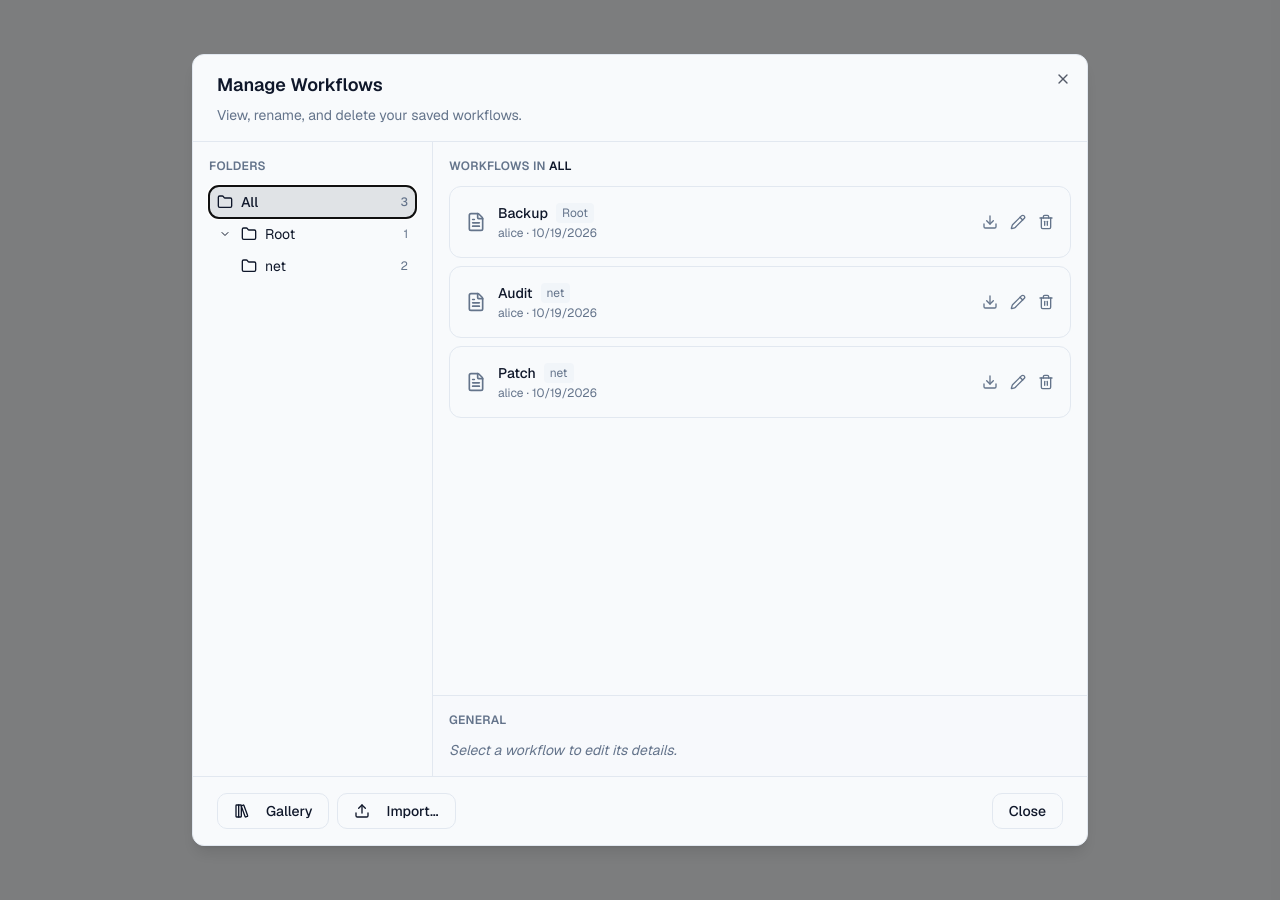
Test: WorkflowManageDialog edit › drops a pending delete confirmation when another workflow is edited
The width and height of the screenshot is (1280, 900).
What coordinates should you click on to do the following:
click the button named "Delete workflow" in the row of "Audit"
I would click on:
 (1046, 302)
Its box is [1038,294,1054,310].
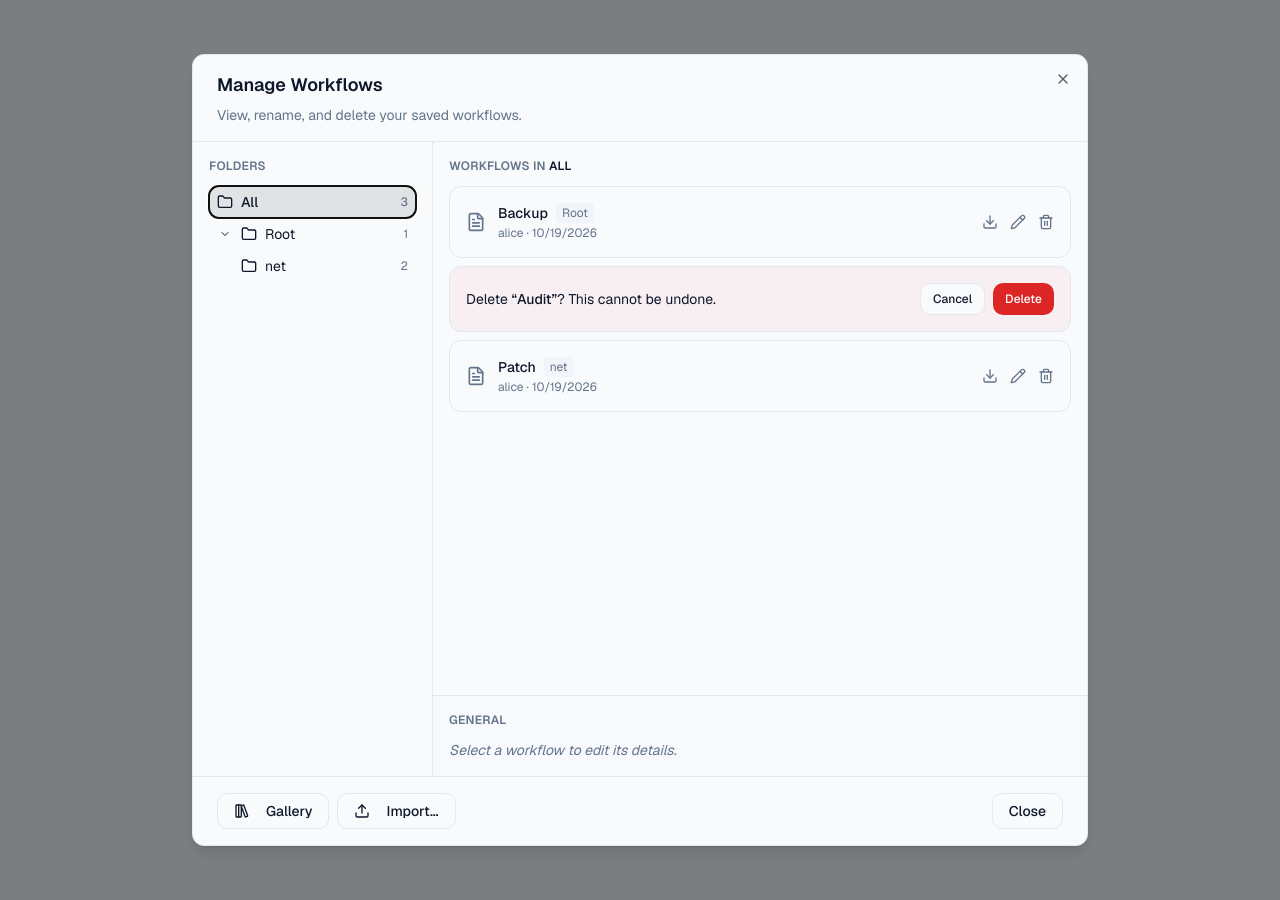
Check: the text "Delete “Audit”? This cannot be undone." is shown, box [466,289,716,309]
What coordinates should you click on to do the following:
click the button named "Edit workflow" in the row of "Backup"
I would click on:
 (1018, 222)
Its box is [1010,214,1026,230].
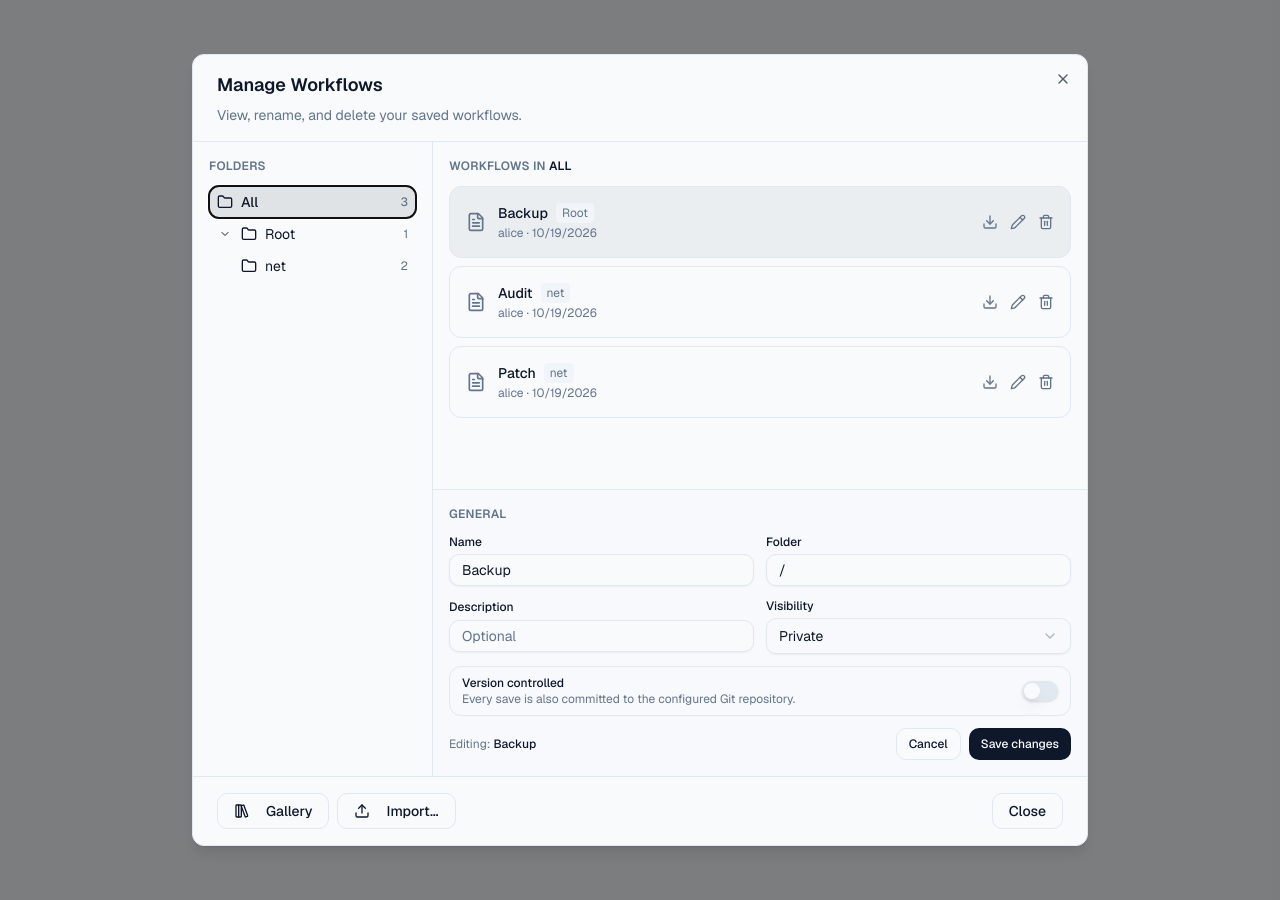
Check: the text "This cannot be undone" is gone
